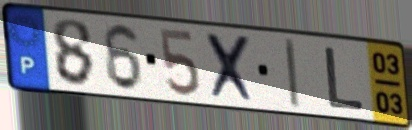5: (157, 25, 203, 98)
6: (100, 22, 146, 93)
8: (49, 17, 97, 88)
I: (282, 37, 302, 111)
L: (324, 45, 368, 113)
X: (203, 30, 260, 106)
